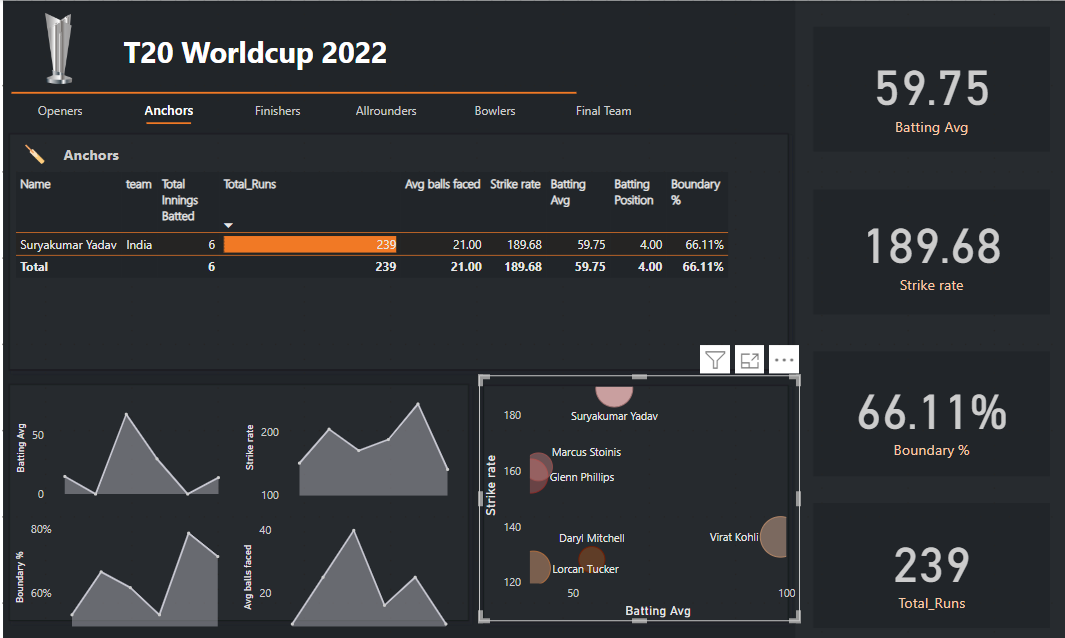

Layout of this report page (visuals, bound fields, positions):
{"tool":"powerbi","page":{"name":"Anchors","canvas":[1280,720],"ordinal":1},"visuals":[{"type":"pageNavigator","box":[57.6,102.9,717.7,41.2],"z":0},{"type":"areaChart","fields":{"Y":["Key_measures (2).Batting Avg"],"Category":["Match_Summary.matchDate.Variation.Date Hierarchy.Month","Match_Summary.matchDate.Variation.Date Hierarchy.Day"]},"box":[59.1,432.7,248.6,133.2],"z":1000},{"type":"textbox","box":[111.3,156.6,133.2,31.6],"z":2000,"group":"g1"},{"type":"areaChart","fields":{"Y":["Key_measures (2).Strike rate"],"Category":["Match_Summary.matchDate.Variation.Date Hierarchy.Month","Match_Summary.matchDate.Variation.Date Hierarchy.Day"]},"box":[313.2,432.7,248.6,133.2],"z":2000},{"type":"image","box":[59.1,156.6,52.2,31.6],"z":2010,"group":"g1"},{"type":"areaChart","fields":{"Y":["Key_measures (2).Avg balls faced"],"Category":["Match_Summary.matchDate.Variation.Date Hierarchy.Month","Match_Summary.matchDate.Variation.Date Hierarchy.Day"]},"box":[311.8,575.6,248.6,127.8],"z":3000},{"type":"areaChart","fields":{"Y":["Key_measures (2).Boundary %"],"Category":["Match_Summary.matchDate.Variation.Date Hierarchy.Month","Match_Summary.matchDate.Variation.Date Hierarchy.Day"]},"box":[57.7,575.6,248.6,127.8],"z":4000},{"type":"card","fields":{"Values":["Key_measures (2).Batting Avg"]},"box":[953.3,31.6,259.6,141.5],"z":5000},{"type":"card","fields":{"Values":["Key_measures (2).Boundary %"]},"box":[953.3,394.2,259.6,138.7],"z":6000},{"type":"card","fields":{"Values":["Key_measures (2).Strike rate"]},"box":[953.3,208.8,259.6,140.1],"z":7000},{"type":"card","fields":{"Values":["Key_measures (2).Total_Runs"]},"box":[953.3,563.2,259.6,140.1],"z":8000},{"type":"group","id":"g1","title":"Group 1","box":[59.1,156.6,185.4,31.6],"z":9000},{"type":"tableEx","fields":{"Values":["Players.Name","Players.team","Key_measures (2).Total Innings Batted","Key_measures (2).Total_Runs","Key_measures (2).Avg balls faced","Key_measures (2).Strike rate","Key_measures (2).Batting Avg","Key_measures (2).Batting Position","Key_measures (2).Boundary %"]},"box":[57.7,188.2,859.9,256.9],"z":10000},{"type":"scatterChart","fields":{"Y":["Key_measures (2).Strike rate"],"X":["Key_measures (2).Batting Avg"],"Size":["Key_measures (2).Total_Runs"],"Series":["Players.Name"],"Category":["Players.Name"]},"box":[579.1,418.5,356.8,274.4],"z":11000},{"type":"shape","box":[208.6,131.7,49.4,12.3],"z":12000},{"type":"image","box":[31.6,0,157.8,109.8],"z":13000},{"type":"textbox","box":[178.4,31.6,337.6,57.6],"z":14000},{"type":"shape","box":[59,98.8,628.5,11],"z":15000}]}

Visuals, with their boxes on the page's 1280x720 design canvas (x1, y1, x2, y2). These are canvas units, not pixel positions in the 1065x638 screenshot, which may show the page scaled, cropped or inside an application window:
pageNavigator: locate(58, 103, 775, 144)
areaChart - Key_measures (2).Batting Avg x Match_Summary.matchDate.Variation.Date Hierarchy.Month: locate(59, 433, 308, 566)
textbox: locate(111, 157, 244, 188)
areaChart - Key_measures (2).Strike rate x Match_Summary.matchDate.Variation.Date Hierarchy.Month: locate(313, 433, 562, 566)
image: locate(59, 157, 111, 188)
areaChart - Key_measures (2).Avg balls faced x Match_Summary.matchDate.Variation.Date Hierarchy.Month: locate(312, 576, 560, 703)
areaChart - Key_measures (2).Boundary % x Match_Summary.matchDate.Variation.Date Hierarchy.Month: locate(58, 576, 306, 703)
card - Key_measures (2).Batting Avg: locate(953, 32, 1213, 173)
card - Key_measures (2).Boundary %: locate(953, 394, 1213, 533)
card - Key_measures (2).Strike rate: locate(953, 209, 1213, 349)
card - Key_measures (2).Total_Runs: locate(953, 563, 1213, 703)
"Group 1" group: locate(59, 157, 244, 188)
tableEx - Players.Name x Players.team: locate(58, 188, 918, 445)
scatterChart - Key_measures (2).Strike rate x Key_measures (2).Batting Avg: locate(579, 418, 936, 693)
shape: locate(209, 132, 258, 144)
image: locate(32, 0, 189, 110)
textbox: locate(178, 32, 516, 89)
shape: locate(59, 99, 688, 110)
